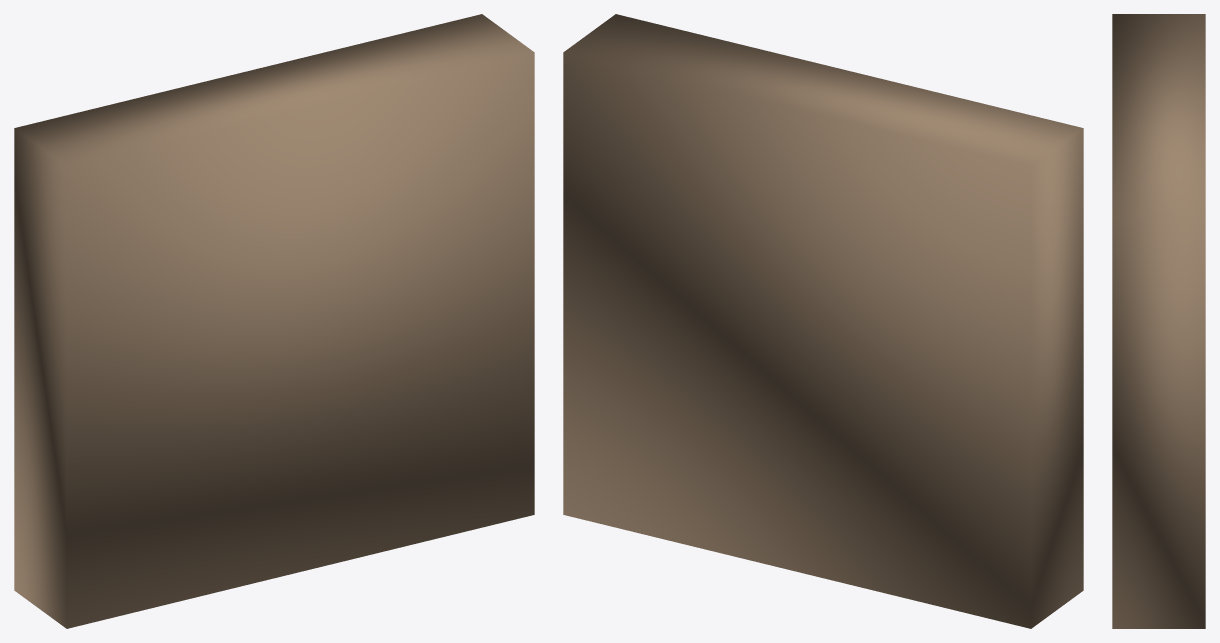
The model's file is back_bar_shelf.glb.
3 views of the same model, side by side, from view 1: azimuth 30°, elevation 25°; view 2: azimuth 150°, elevation 25°; view 3: azimuth 270°, elevation 25° (orthographic). The views are drawn at different scales.
Parts seen in each view (by area): view 1: world; view 2: world; view 3: world.
Boxes of the visible parts, <box> form: world: <box>14,14,534,628</box>; world: <box>563,14,1083,628</box>; world: <box>1112,14,1205,628</box>.
Bounding box in the file's own units: 1.8 × 1.7 × 0.35.
